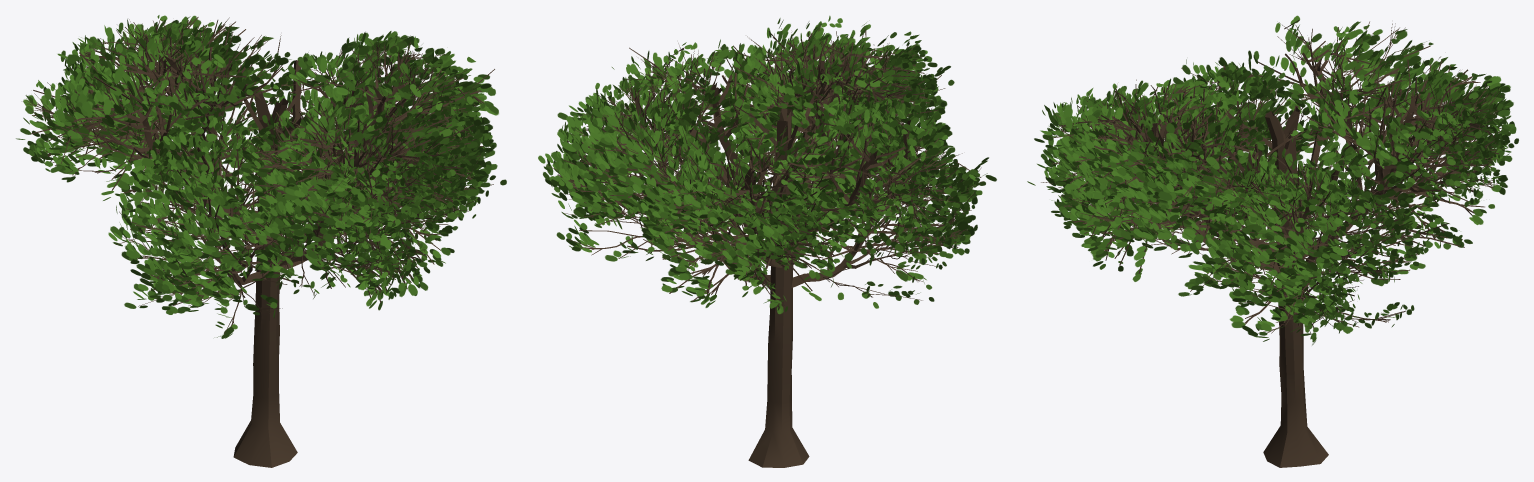
The picture shows the model from 3 angles, left to right: view 1: azimuth 30°, elevation 25°; view 2: azimuth 150°, elevation 25°; view 3: azimuth 270°, elevation 25°; orthographic projection. The views are drawn at different scales.
Parts seen in each view (by area): view 1: oak 01.001_trunk_Mat.001_0.116; view 2: oak 01.001_trunk_Mat.001_0.116; view 3: oak 01.001_trunk_Mat.001_0.116.
Boxes of the visible parts, x1,y1,x2,y2 form: oak 01.001_trunk_Mat.001_0.116: (16, 15, 506, 467); oak 01.001_trunk_Mat.001_0.116: (538, 15, 996, 467); oak 01.001_trunk_Mat.001_0.116: (1027, 15, 1518, 467).
Bounding box in the file's own units: 5.36 × 4.27 × 5.23.
2 materials, 1 textured.
